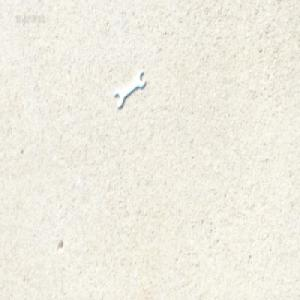Wrench: (114, 69, 147, 108)
